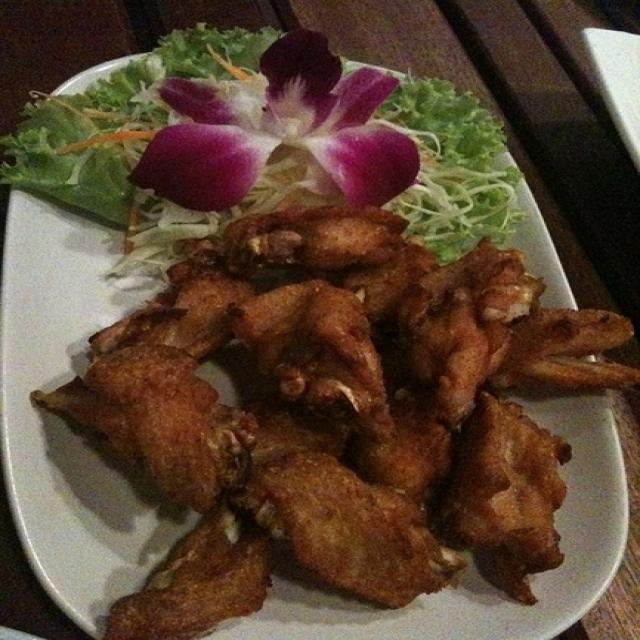Deep fried chicken wing: (70, 206, 598, 610)
